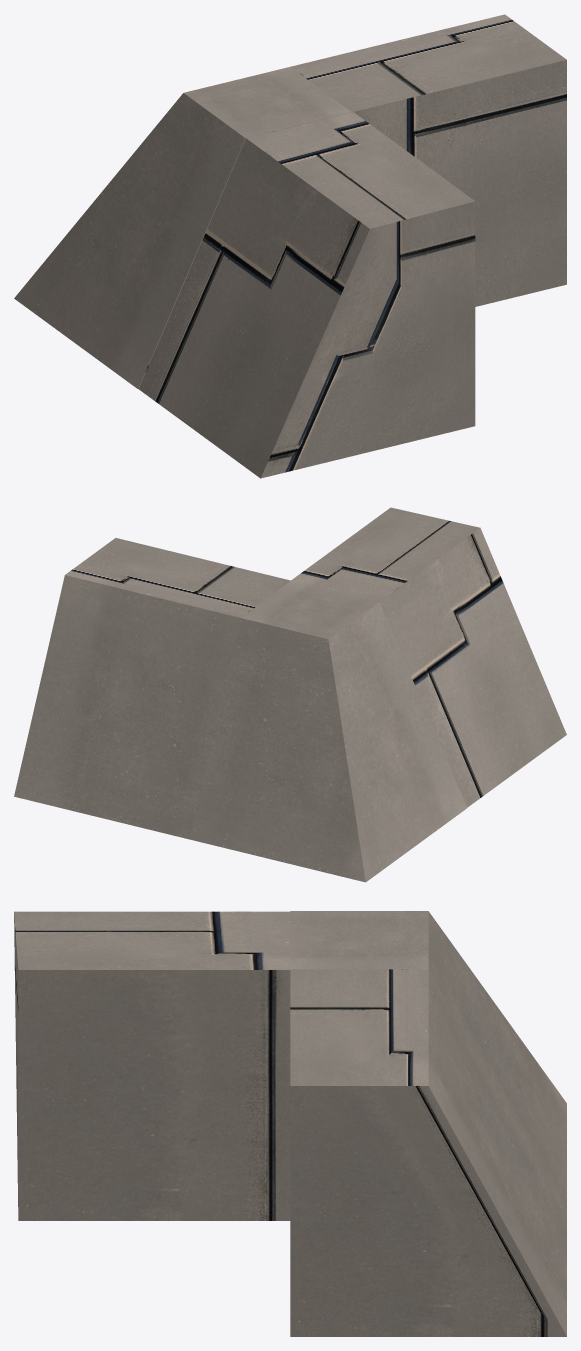
The model's file is last.fbx.
3 views of the same model, one above another, from view 1: azimuth 30°, elevation 25°; view 2: azimuth 150°, elevation 25°; view 3: azimuth 270°, elevation 25° (orthographic). The views are drawn at different scales.
Parts seen in each view (by area): view 1: Cube.002, Cube.001, Cube; view 2: Cube, Cube.001, Cube.002; view 3: Cube.002, Cube.001, Cube.
Part boxes in pixels (<box>): Cube.002: <box>139,112,475,478</box>; Cube.001: <box>290,14,566,306</box>; Cube: <box>14,67,352,389</box>; Cube: <box>190,580,467,882</box>; Cube.001: <box>14,538,290,839</box>; Cube.002: <box>291,507,566,807</box>; Cube.002: <box>14,911,290,1220</box>; Cube.001: <box>290,969,566,1336</box>; Cube: <box>290,911,566,1219</box>.
Bounding box in the file's own units: 399 × 200 × 400.
